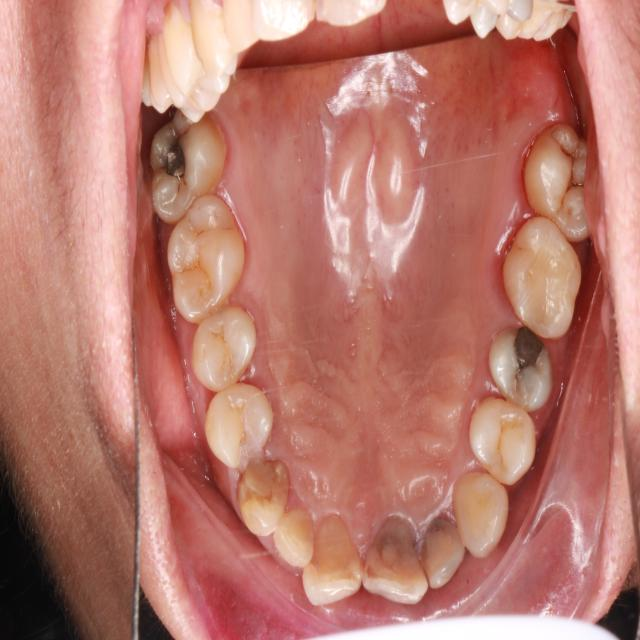tooth: (500, 201, 591, 359), (161, 187, 257, 332), (141, 104, 240, 239), (521, 114, 597, 255), (465, 384, 549, 493), (291, 507, 375, 614), (194, 379, 284, 477), (182, 296, 267, 396), (482, 317, 562, 420), (441, 459, 519, 564), (359, 513, 433, 613), (230, 457, 305, 551), (413, 509, 478, 599), (267, 499, 324, 582)
